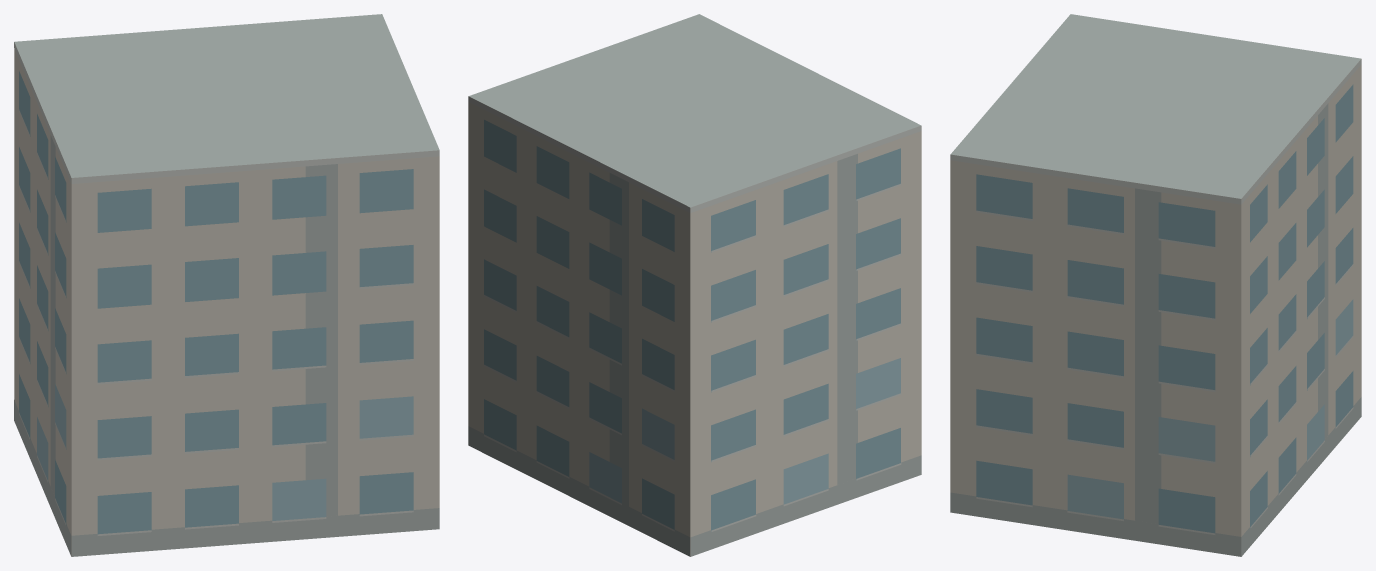
The model's file is residential-1741b282-4b66-4a00-9b4d-259f0fcae1d0.glb.
3 renders of one model, left to right at view 1: azimuth 30°, elevation 25°; view 2: azimuth 150°, elevation 25°; view 3: azimuth 270°, elevation 25°, orthographic. The views are drawn at different scales.
Parts seen in each view (by area): view 1: residential-1741b282-4b66-4a00-9b4d-259f0fcae1d0.tmp; view 2: residential-1741b282-4b66-4a00-9b4d-259f0fcae1d0.tmp; view 3: residential-1741b282-4b66-4a00-9b4d-259f0fcae1d0.tmp.
Boxes of the visible parts, <box> form: residential-1741b282-4b66-4a00-9b4d-259f0fcae1d0.tmp: <box>14,14,439,556</box>; residential-1741b282-4b66-4a00-9b4d-259f0fcae1d0.tmp: <box>468,14,921,556</box>; residential-1741b282-4b66-4a00-9b4d-259f0fcae1d0.tmp: <box>950,14,1361,556</box>.
Size of the model in its own units: 16.9 by 15.25 by 15.89.
